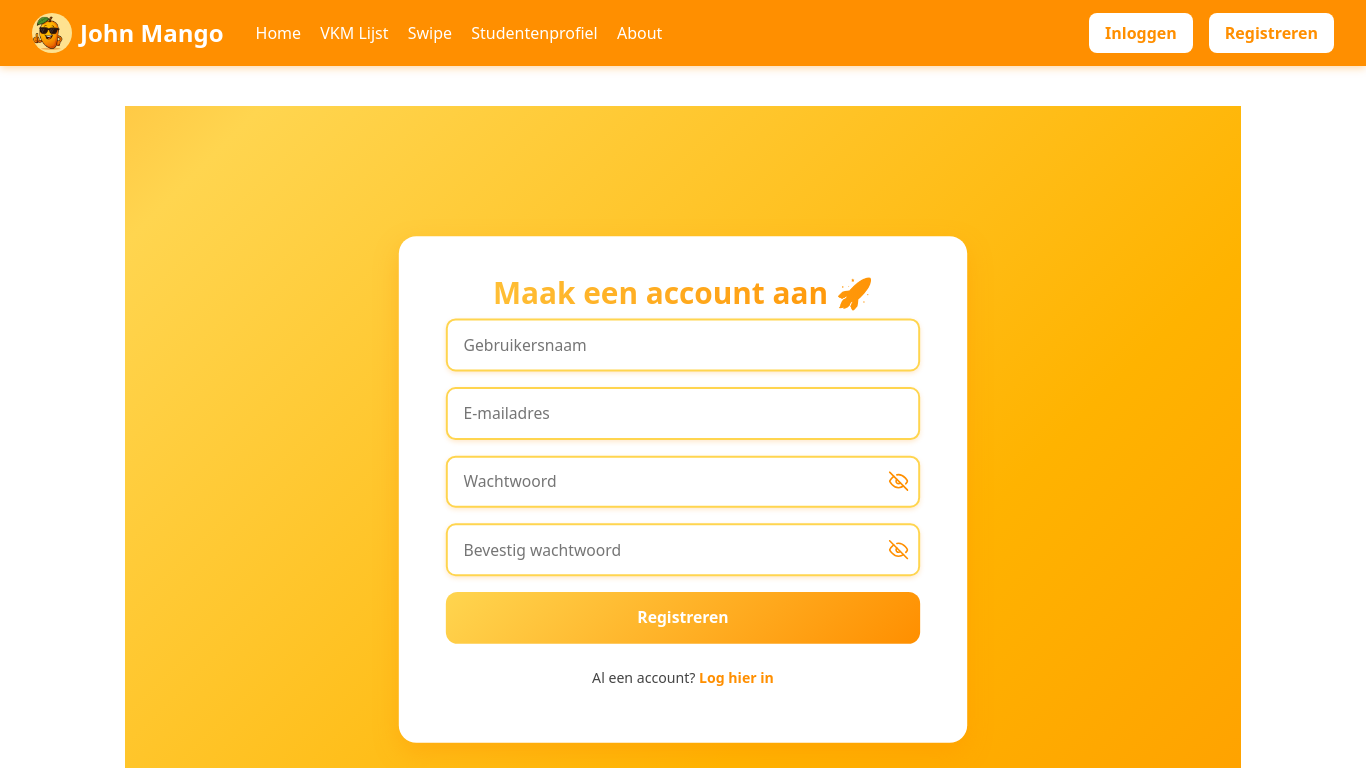
Test case: E2E Tests › Registration › should validate username (minimum 3 characters)
This screenshot has width=1366, height=768.
Step 1. Type "ab" into the field with placeholder "Gebruikersnaam" → (683, 346), box [446,319,920,372]
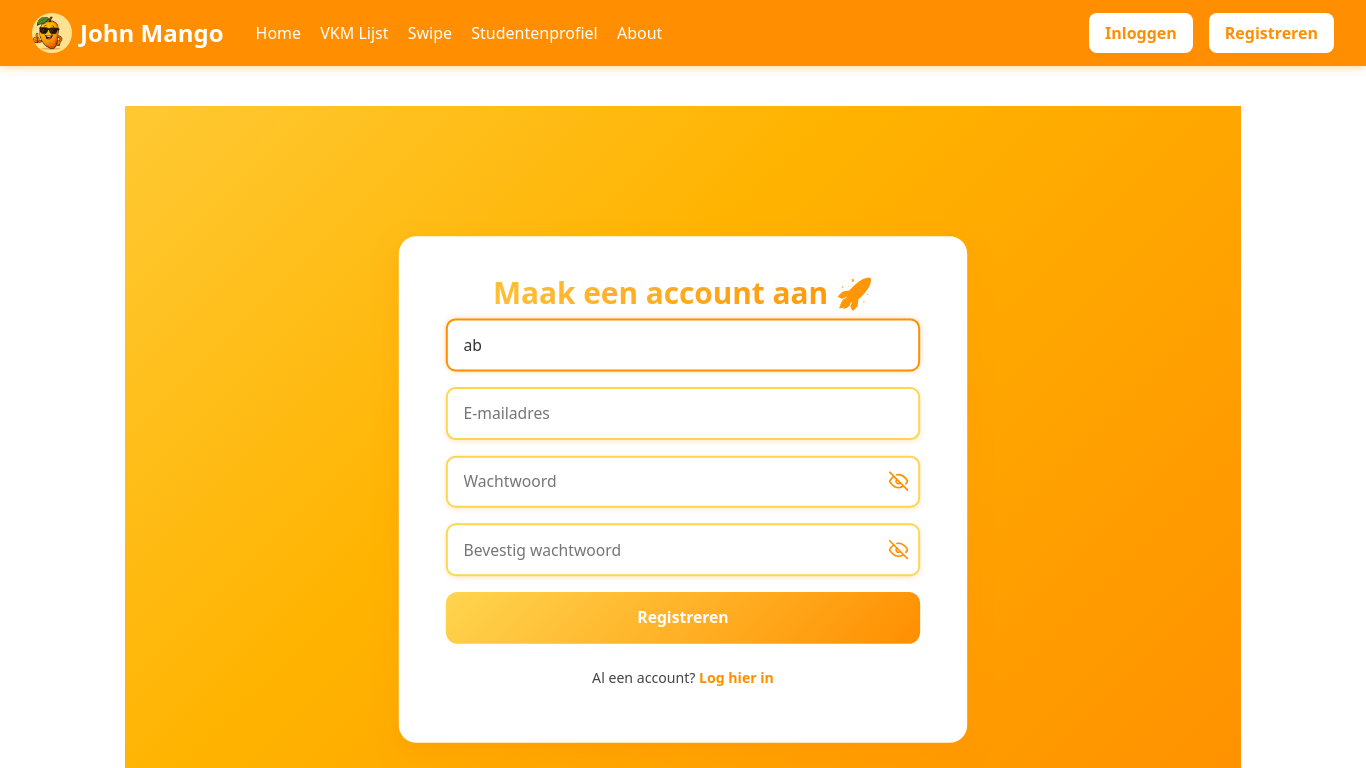
Step 2. Type "test@example.com" into the field with placeholder "E-mailadres" → (683, 414), box [446,387,920,440]
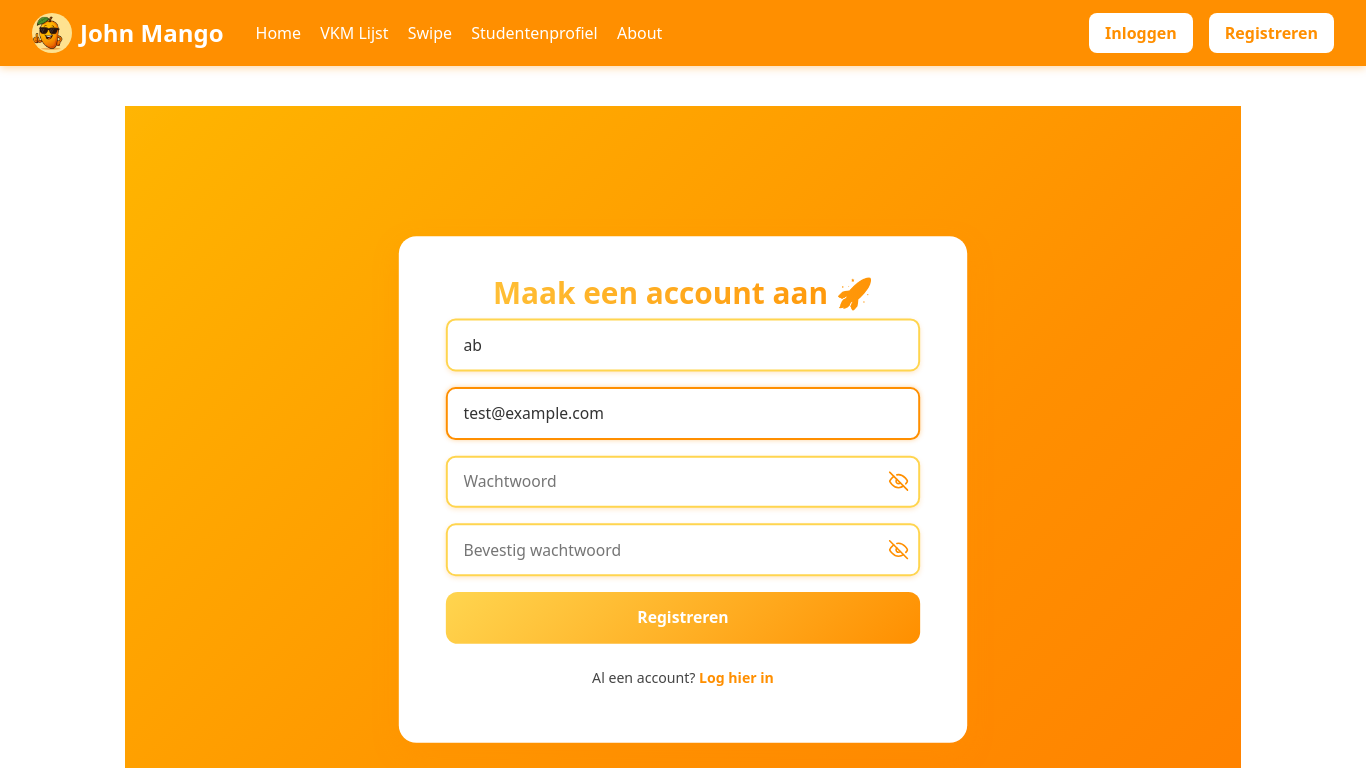
Step 3. Type "Password123!" into the password field with placeholder "Wachtwoord" → (683, 482), box [446,455,920,508]
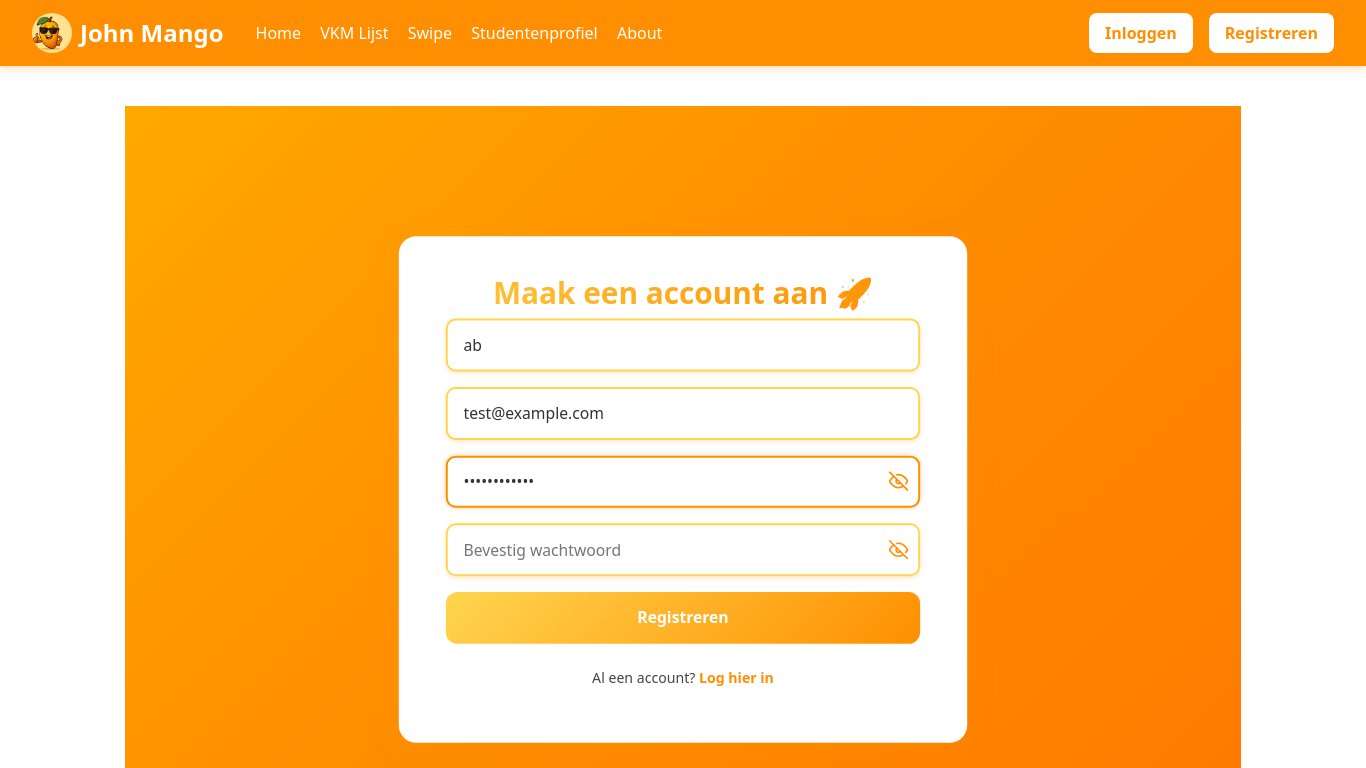
Step 4. Type "Password123!" into the password field with placeholder "Bevestig wachtwoord" → (683, 551), box [446,524,920,577]
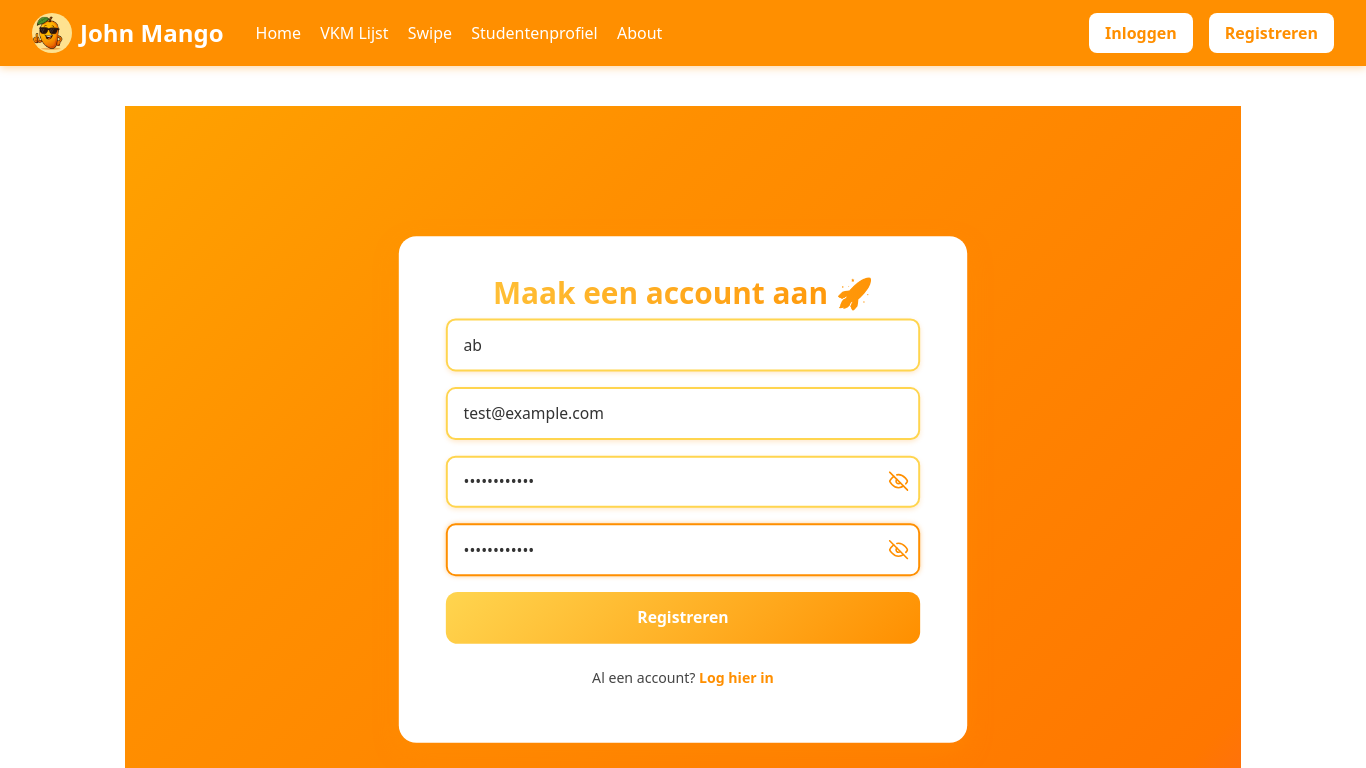
Step 5. Click the button with class "register-button" → (683, 618), box [446,592,920,644]
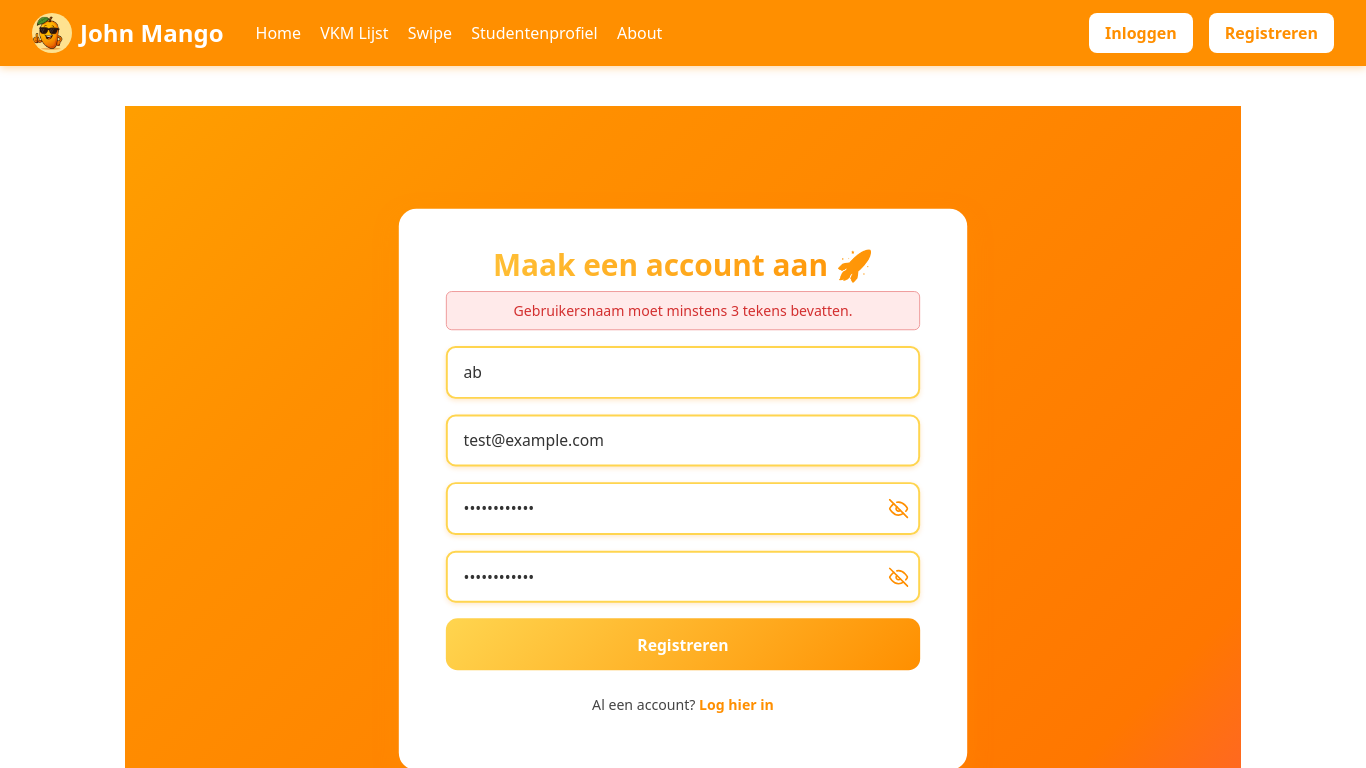
Expected: the text with class "error-message" shows "Gebruikersnaam moet minstens 3 tekens bevatten", [514,301,853,320]
